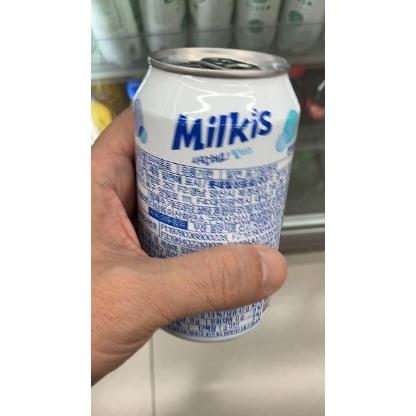Can: (131, 44, 303, 346)
